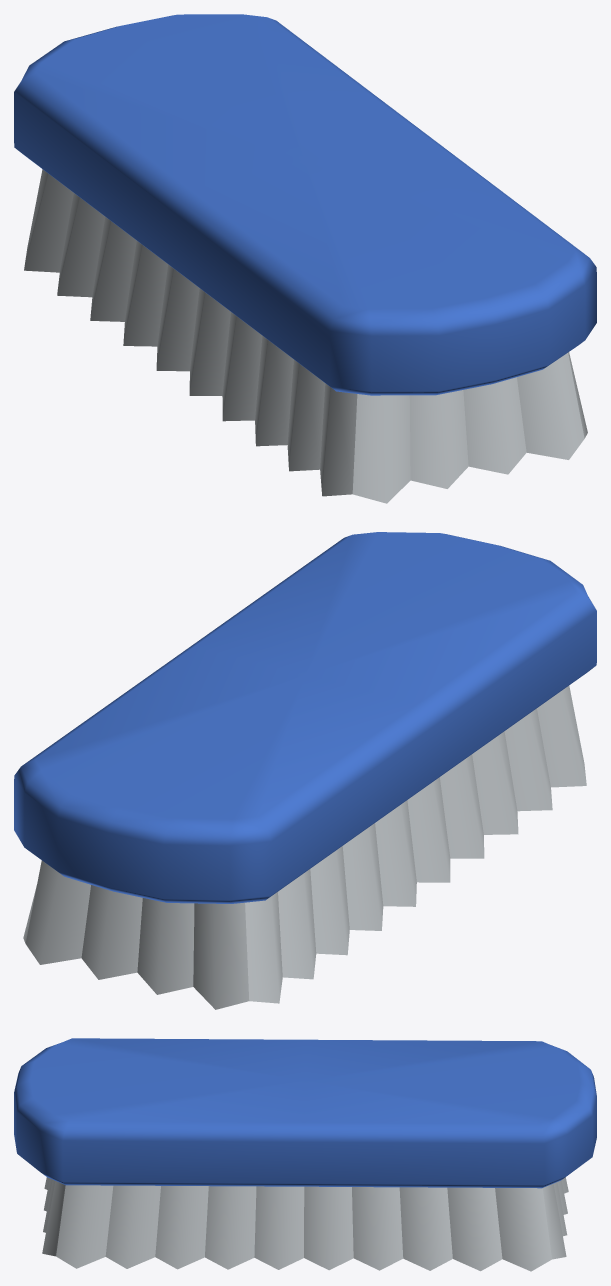
Rendered from brush.fbx.
3 renders of one model, top to bottom at view 1: azimuth 30°, elevation 25°; view 2: azimuth 150°, elevation 25°; view 3: azimuth 270°, elevation 25°, orthographic. The views are drawn at different scales.
Parts seen in each view (by area): view 1: ToothBrush35__M_Cnsw_58_FloorSet_Obj_hair.002; view 2: ToothBrush35__M_Cnsw_58_FloorSet_Obj_hair.002; view 3: ToothBrush35__M_Cnsw_58_FloorSet_Obj_hair.002.
Part boxes in pixels (left/top/right/bottom): ToothBrush35__M_Cnsw_58_FloorSet_Obj_hair.002: left=14, top=14, right=596, bottom=503; ToothBrush35__M_Cnsw_58_FloorSet_Obj_hair.002: left=14, top=532, right=596, bottom=1009; ToothBrush35__M_Cnsw_58_FloorSet_Obj_hair.002: left=14, top=1038, right=596, bottom=1271.
Bounding box in the file's own units: 2128 × 1425 × 5300.
